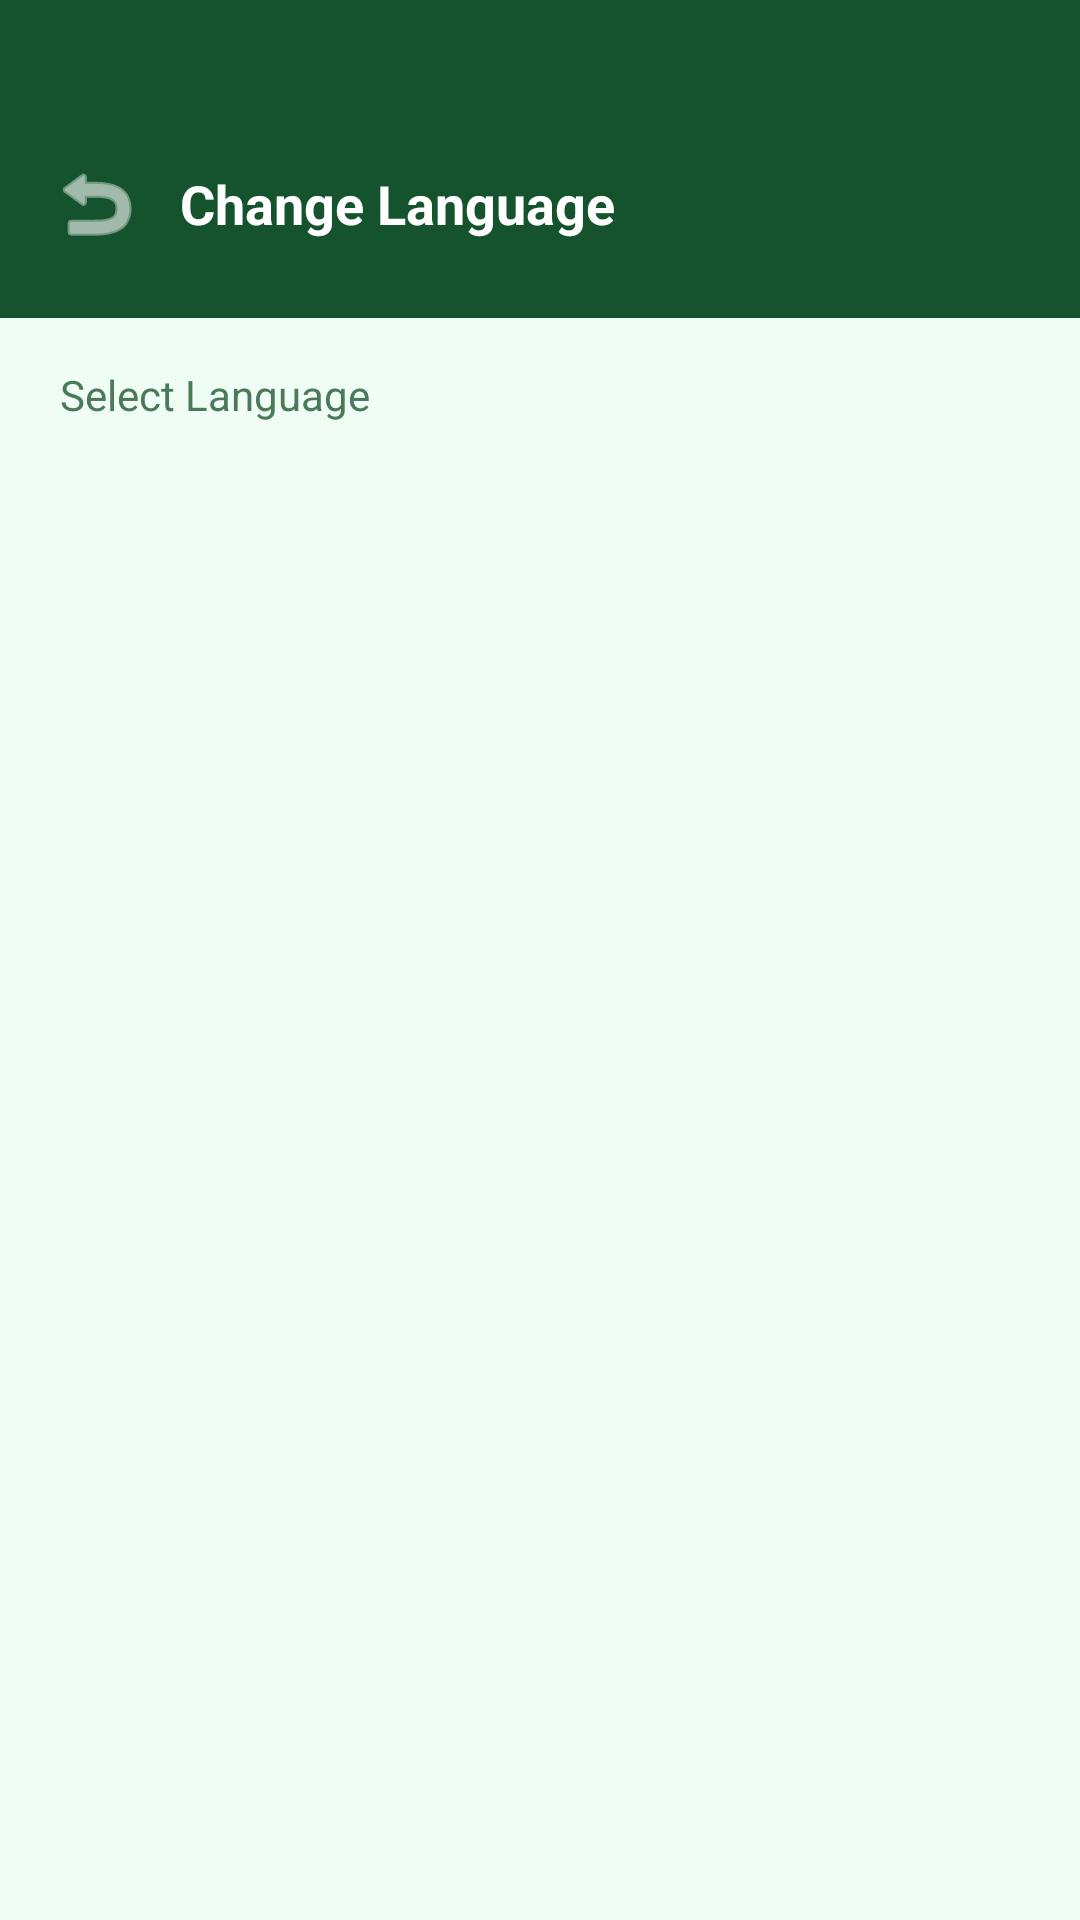

Where to tap for icons on this 1080px×1920px app screen, as point (x, y):
Back: point (97, 204)
